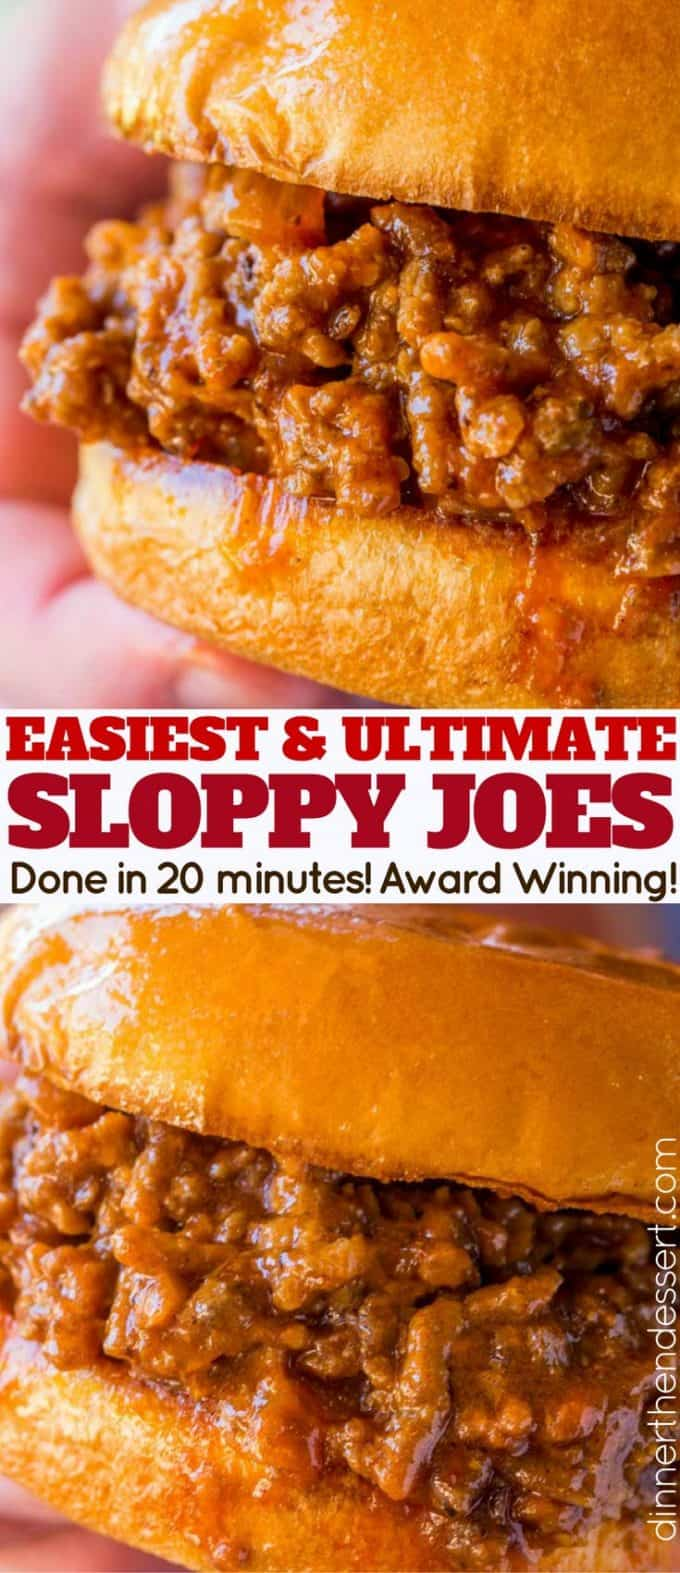hamburger_buns: (2, 925, 680, 1236), (46, 9, 680, 252)
